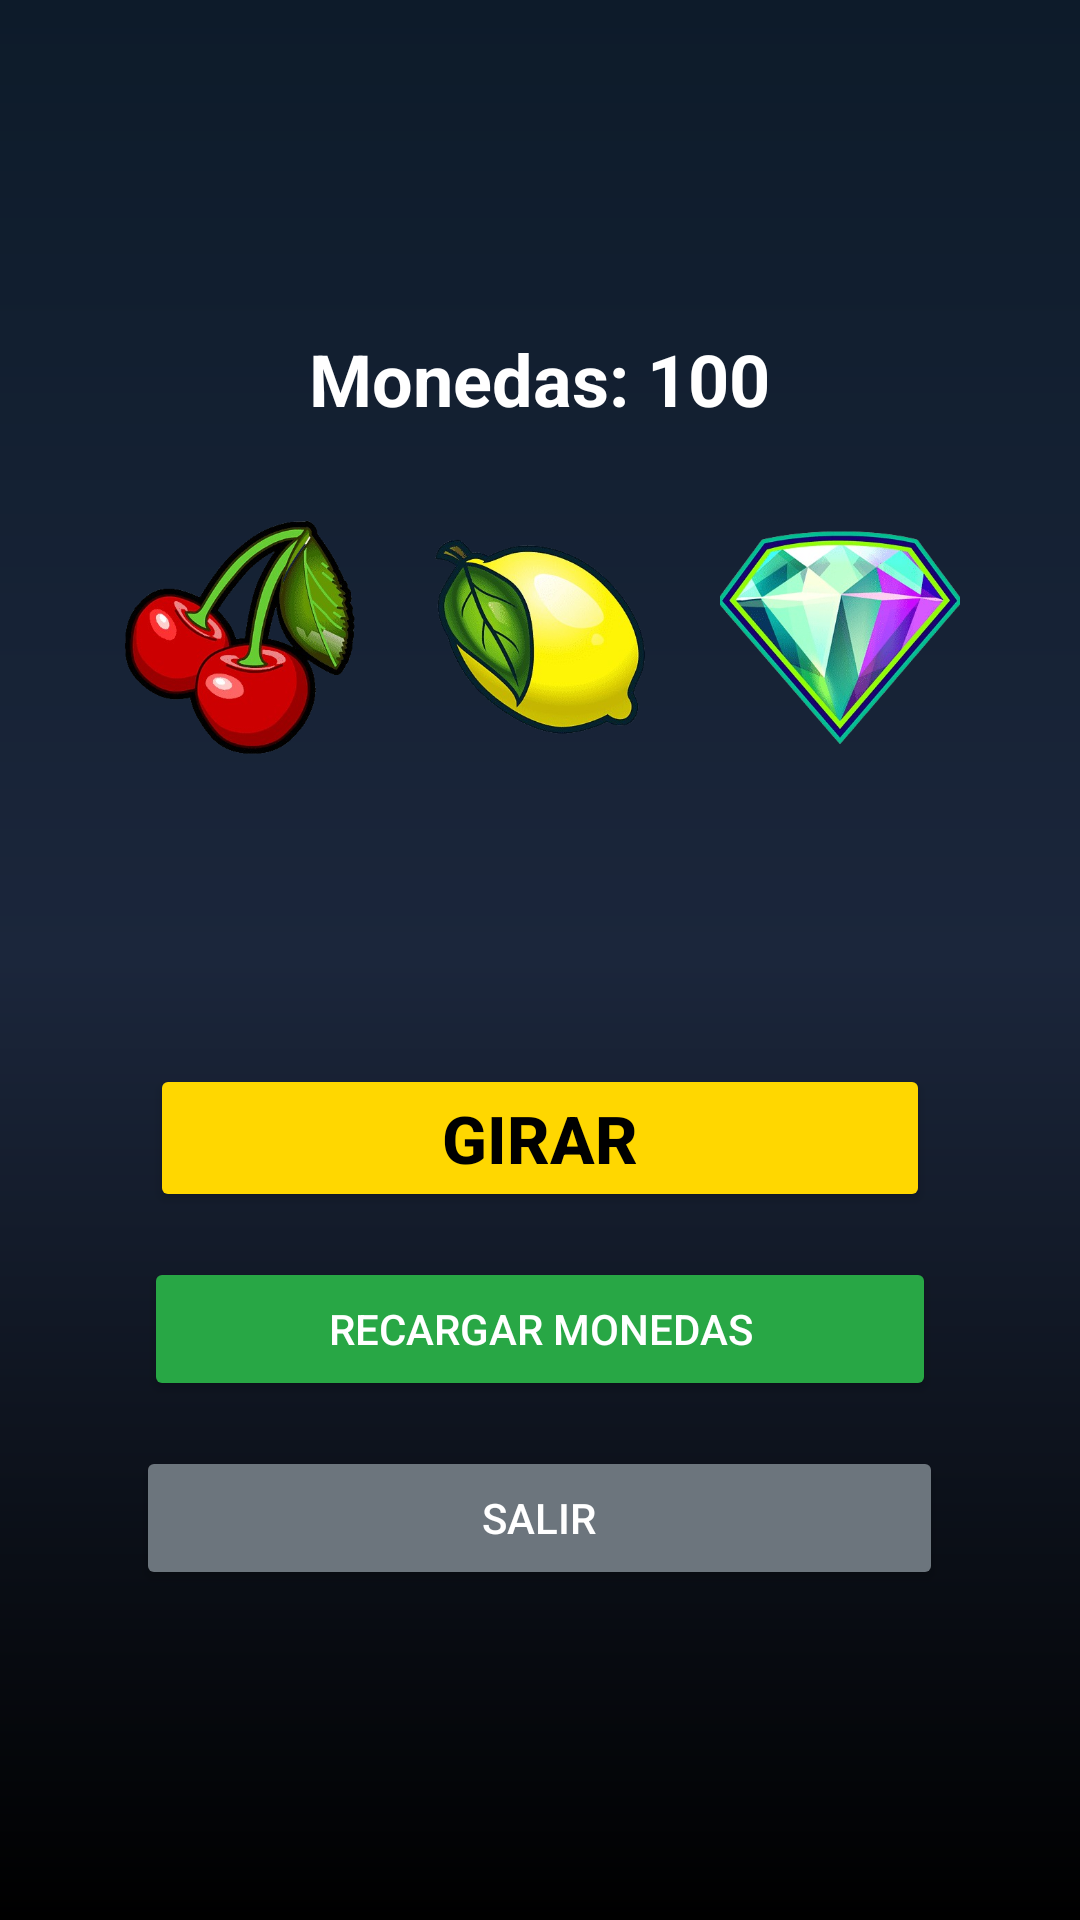

Icons on this 1080px×1920px Android screen, each with its box as (x1, y1, x2, y2):
cherry: (125, 521, 354, 754)
diamond: (720, 531, 960, 744)
lemon: (443, 540, 640, 733)
